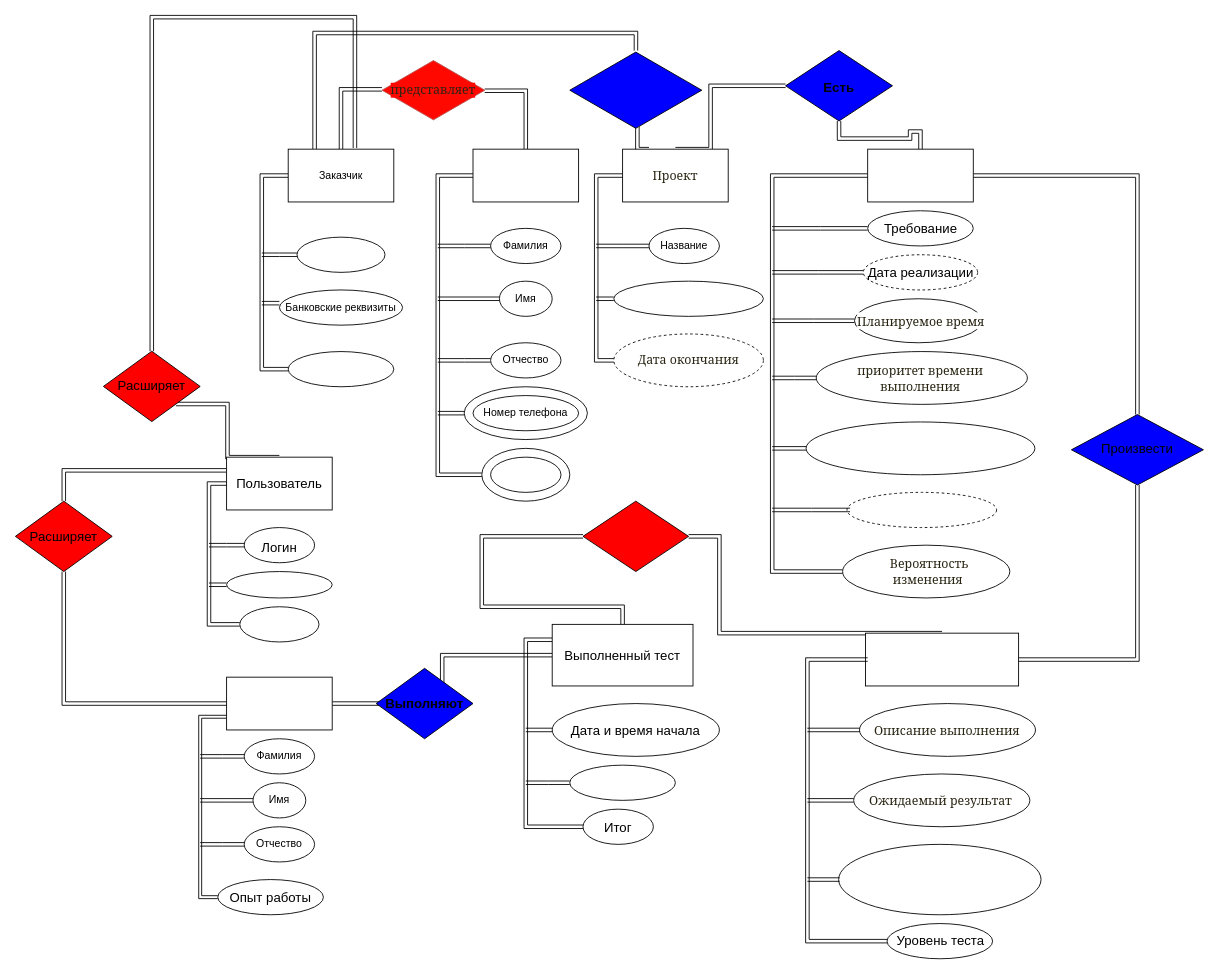
The diagram is 1219 pixels wide and 974 high, and some of its shapes have lost their labels. Here are the shapes that lost their labels. From the top down, the centre of each, then its label:
At (635,90): "Заказывает".
At (525,175): "Контактное лицо".
At (920,175): "Требования".
At (340,254): "Наименование".
At (688,298): "Дата начала".
At (340,369): "Юридический адрес".
At (920,448): "Уровень критичности для заказчика".
At (525,474): "e-mail".
At (921,509): "Отметка о завершении".
At (635,536): "Выполнение".
At (279,584): "Пароль".
At (279,624): "Роль".
At (942,659): "Запланированный тест".
At (279,703): "Тестировщик".
At (622,782): "Длительность".
At (939,879): "Планируемое время выполнения".
